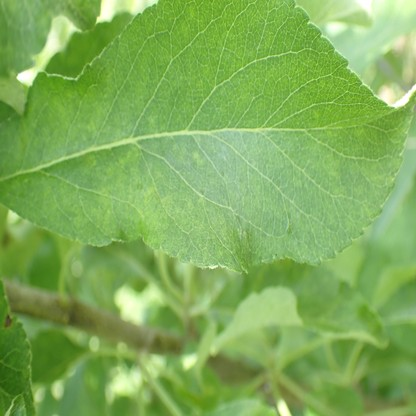frogeye_leaf_spot: (5, 313, 12, 328)
scab: (98, 148, 165, 245), (164, 192, 226, 264), (15, 75, 50, 160), (83, 151, 97, 176), (171, 144, 188, 162), (192, 151, 203, 164)
